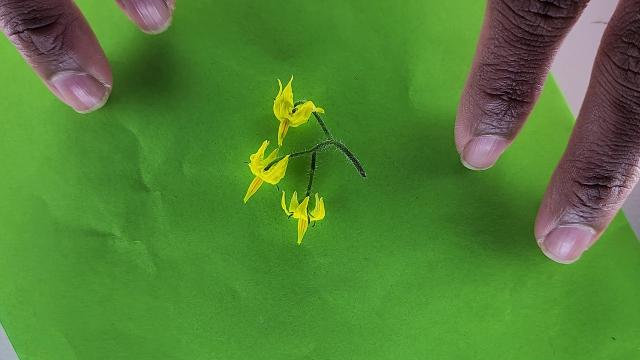Anthesis: (272, 70, 321, 148), (241, 138, 290, 202), (280, 187, 326, 246)
